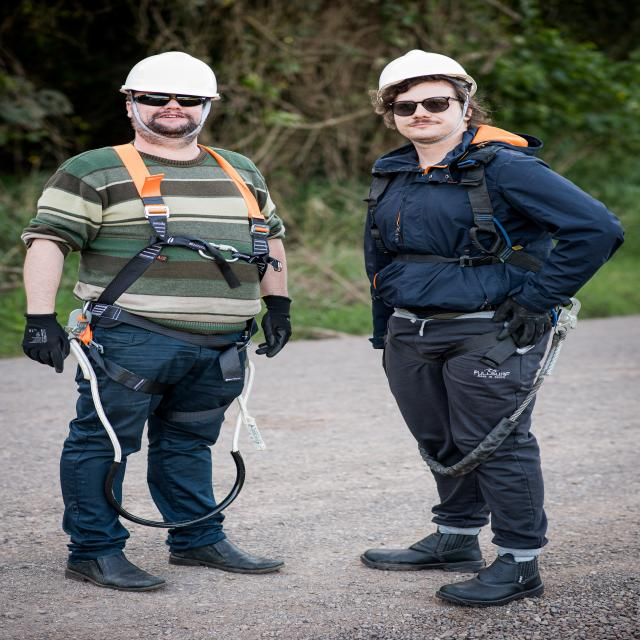botas: (434, 549, 550, 605), (351, 527, 492, 572), (61, 541, 174, 594), (157, 532, 291, 576)
capacete: (118, 49, 229, 102), (375, 46, 483, 98)
corda de vida: (66, 136, 286, 427), (361, 141, 563, 368)
luva: (482, 290, 561, 350), (15, 308, 77, 375), (253, 292, 302, 362)
